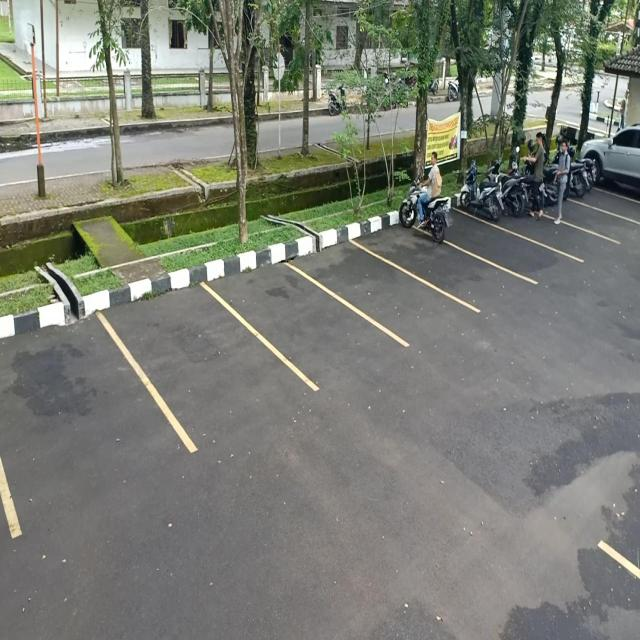empty: (0, 318, 156, 534), (142, 281, 258, 459), (248, 258, 350, 390), (340, 243, 414, 349)
